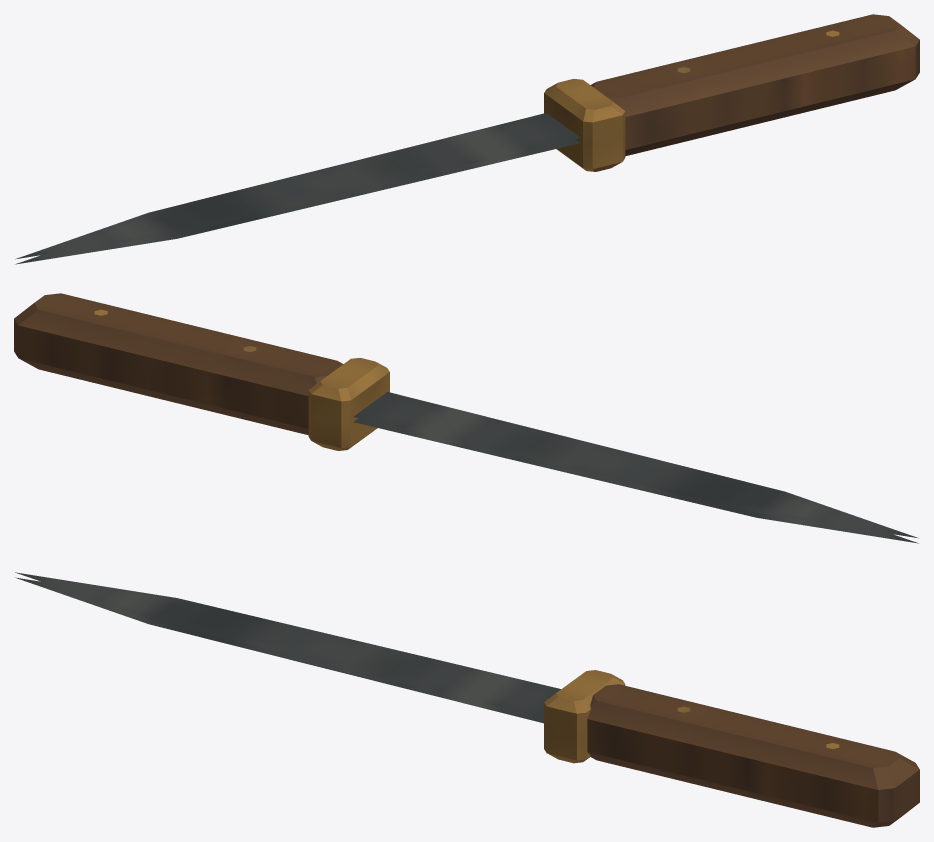
Rendered from PaperKnife.obj.
3 renders of one model, top to bottom at view 1: azimuth 30°, elevation 25°; view 2: azimuth 150°, elevation 25°; view 3: azimuth 330°, elevation 25°, orthographic.
Parts seen in each view (by area): view 1: PaperKnife_BladeAndHandle; view 2: PaperKnife_BladeAndHandle; view 3: PaperKnife_BladeAndHandle.
Boxes of the visible parts, left/top/right/bottom form: PaperKnife_BladeAndHandle: left=15, top=14, right=919, bottom=264; PaperKnife_BladeAndHandle: left=14, top=293, right=918, bottom=543; PaperKnife_BladeAndHandle: left=15, top=572, right=919, bottom=827.
Size of the model in its own units: 0.36 by 0.024 by 0.032.
Materials: 3 (3 with a texture image).
